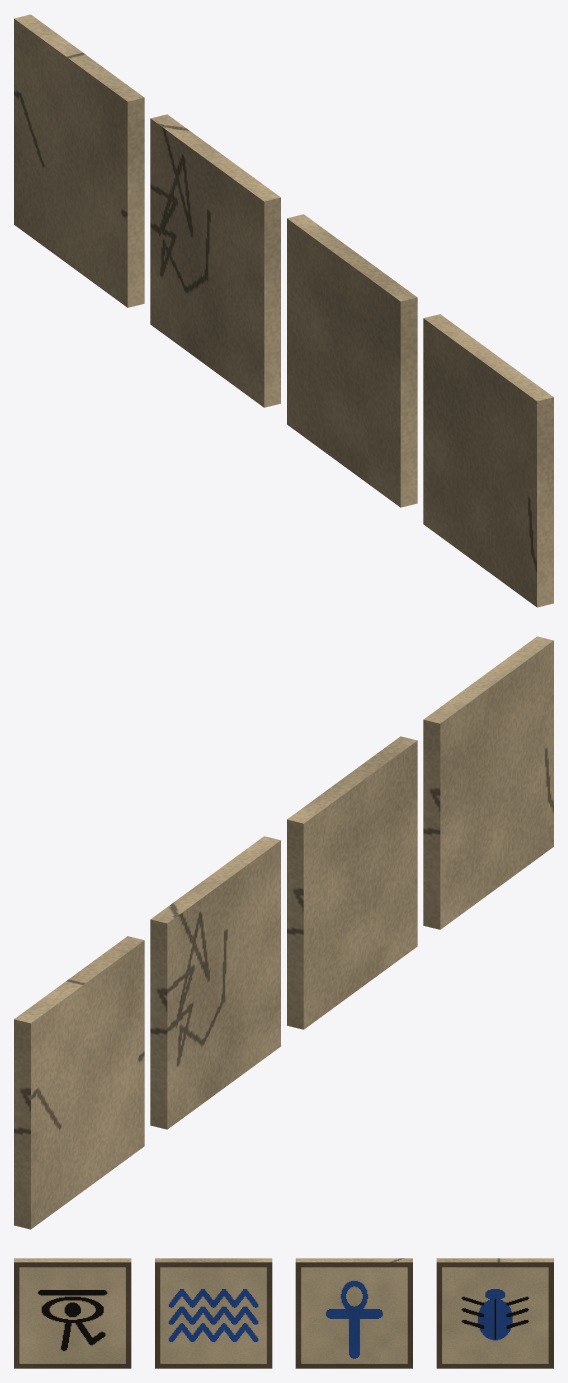
File: puzzel1.glb
The picture shows the model from 3 angles, top to bottom: view 1: azimuth 30°, elevation 25°; view 2: azimuth 150°, elevation 25°; view 3: azimuth 270°, elevation 25°; orthographic projection. The views are drawn at different scales.
Visible parts, largest first — view 1: SymbolBlock_2_water, SymbolBlock_3_ankh, SymbolBlock_1_eye, SymbolBlock_4_scarab; view 2: SymbolBlock_2_water, SymbolBlock_3_ankh, SymbolBlock_1_eye, SymbolBlock_4_scarab; view 3: SymbolBlock_1_eye, SymbolBlock_2_water, SymbolBlock_3_ankh, SymbolBlock_4_scarab.
Boxes of the visible parts, box(x1,y1,x2,y2) form: SymbolBlock_2_water: box(287, 214, 417, 507); SymbolBlock_3_ankh: box(150, 114, 280, 407); SymbolBlock_1_eye: box(423, 314, 553, 607); SymbolBlock_4_scarab: box(14, 14, 144, 307); SymbolBlock_2_water: box(287, 736, 417, 1029); SymbolBlock_3_ankh: box(150, 836, 280, 1129); SymbolBlock_1_eye: box(423, 636, 553, 929); SymbolBlock_4_scarab: box(14, 936, 144, 1229); SymbolBlock_1_eye: box(14, 1258, 131, 1368); SymbolBlock_2_water: box(155, 1258, 272, 1368); SymbolBlock_3_ankh: box(295, 1258, 412, 1368); SymbolBlock_4_scarab: box(436, 1258, 553, 1368).
Size of the model in its own units: 0.03 by 0.35 by 1.61.
Materials: 2 (2 with a texture image).
